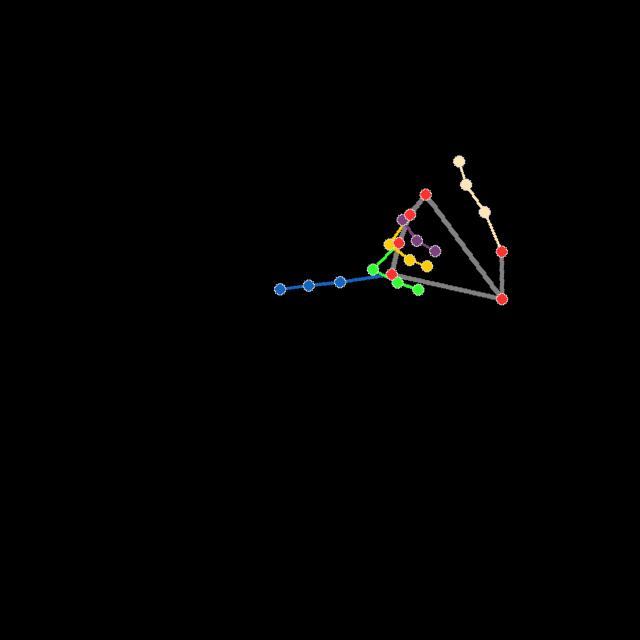skr: (268, 133, 512, 311)
